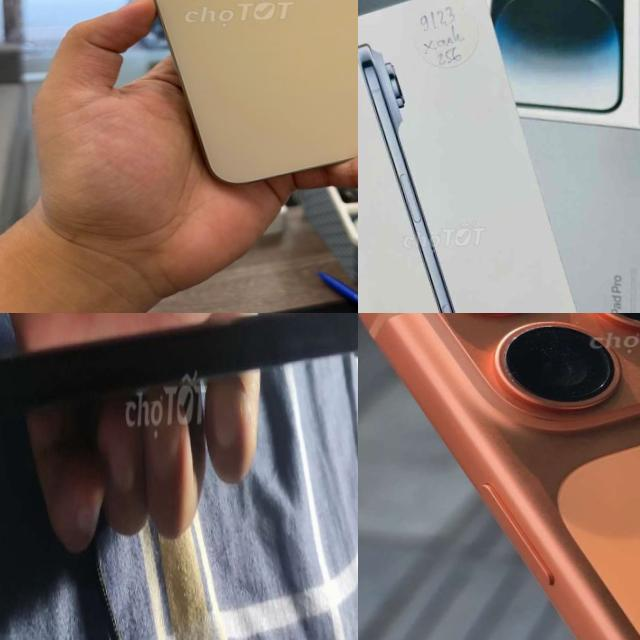gen_14: (119, 0, 358, 195)
gen_17: (358, 313, 640, 640), (358, 20, 517, 313)
gen_7_8: (0, 313, 358, 411)
